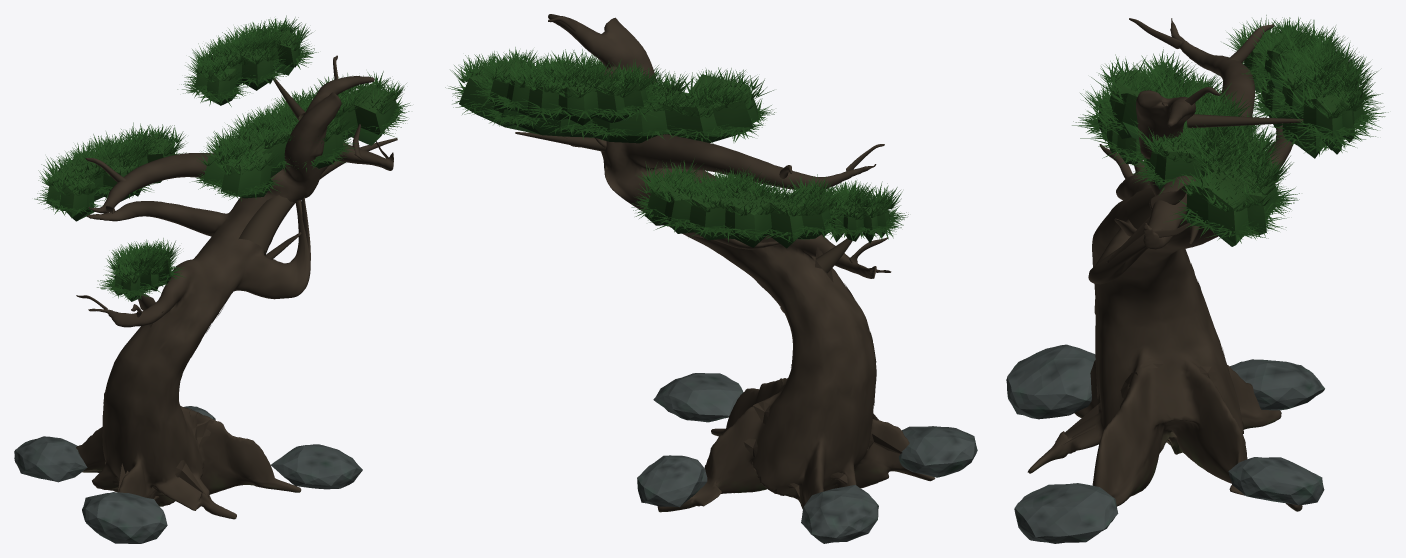
The model's file is h29-gate-pine.glb.
The picture shows the model from 3 angles, left to right: view 1: azimuth 30°, elevation 25°; view 2: azimuth 150°, elevation 25°; view 3: azimuth 270°, elevation 25°; orthographic projection. The views are drawn at different scales.
Visible parts, largest first — view 1: H29 aged pine narrower bole ground hugging roots, H29 MAIN TOP REAR dense 3D crowns, H29 retained root contact slope stones; view 2: H29 aged pine narrower bole ground hugging roots, H29 MAIN TOP REAR dense 3D crowns, H29 retained root contact slope stones; view 3: H29 aged pine narrower bole ground hugging roots, H29 MAIN TOP REAR dense 3D crowns, H29 retained root contact slope stones.
Boxes of the visible parts, bbox=[...] form: H29 aged pine narrower bole ground hugging roots: bbox=[76, 55, 397, 519]; H29 MAIN TOP REAR dense 3D crowns: bbox=[34, 15, 410, 301]; H29 retained root contact slope stones: bbox=[14, 406, 362, 543]; H29 aged pine narrower bole ground hugging roots: bbox=[515, 14, 935, 512]; H29 MAIN TOP REAR dense 3D crowns: bbox=[445, 47, 908, 248]; H29 retained root contact slope stones: bbox=[637, 373, 977, 543]; H29 aged pine narrower bole ground hugging roots: bbox=[1027, 18, 1303, 511]; H29 MAIN TOP REAR dense 3D crowns: bbox=[1072, 15, 1388, 246]; H29 retained root contact slope stones: bbox=[1006, 344, 1324, 543].
Size of the model in its own units: 6.49 by 6.11 by 4.14.
